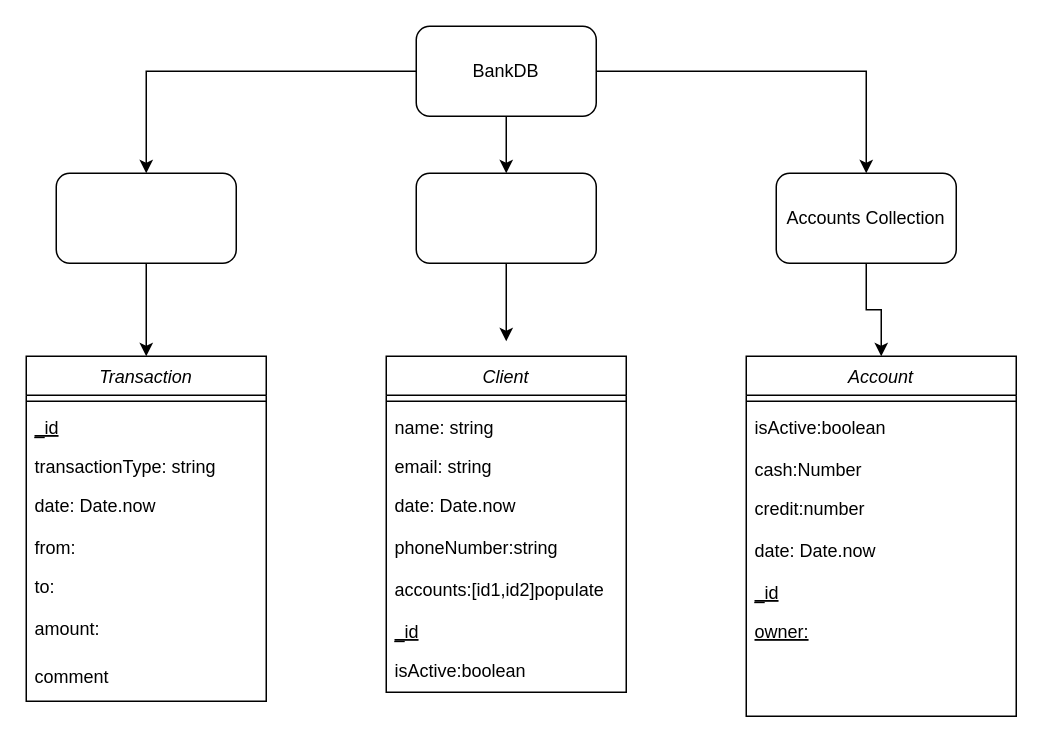
Some shapes in this 1043 by 743 pixel diagram are drawn without their labels. The shapes that lost their labels are listed below. From the top down, each one's centre as x and y in pixels, then its label:
(x=145, y=217): Transactions Collection
(x=505, y=217): Clients Collection
